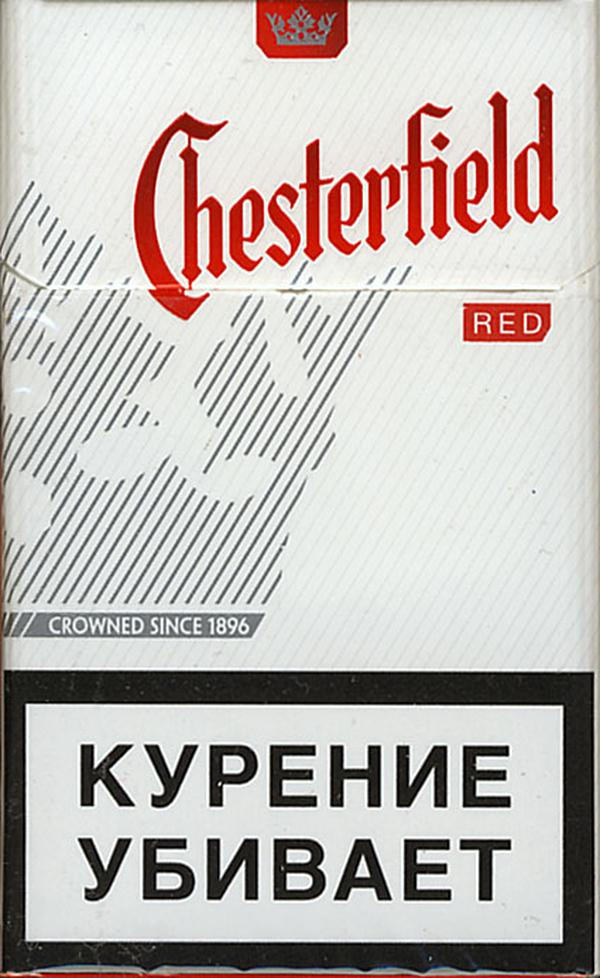chesterfield_red: (3, 4, 600, 974)
